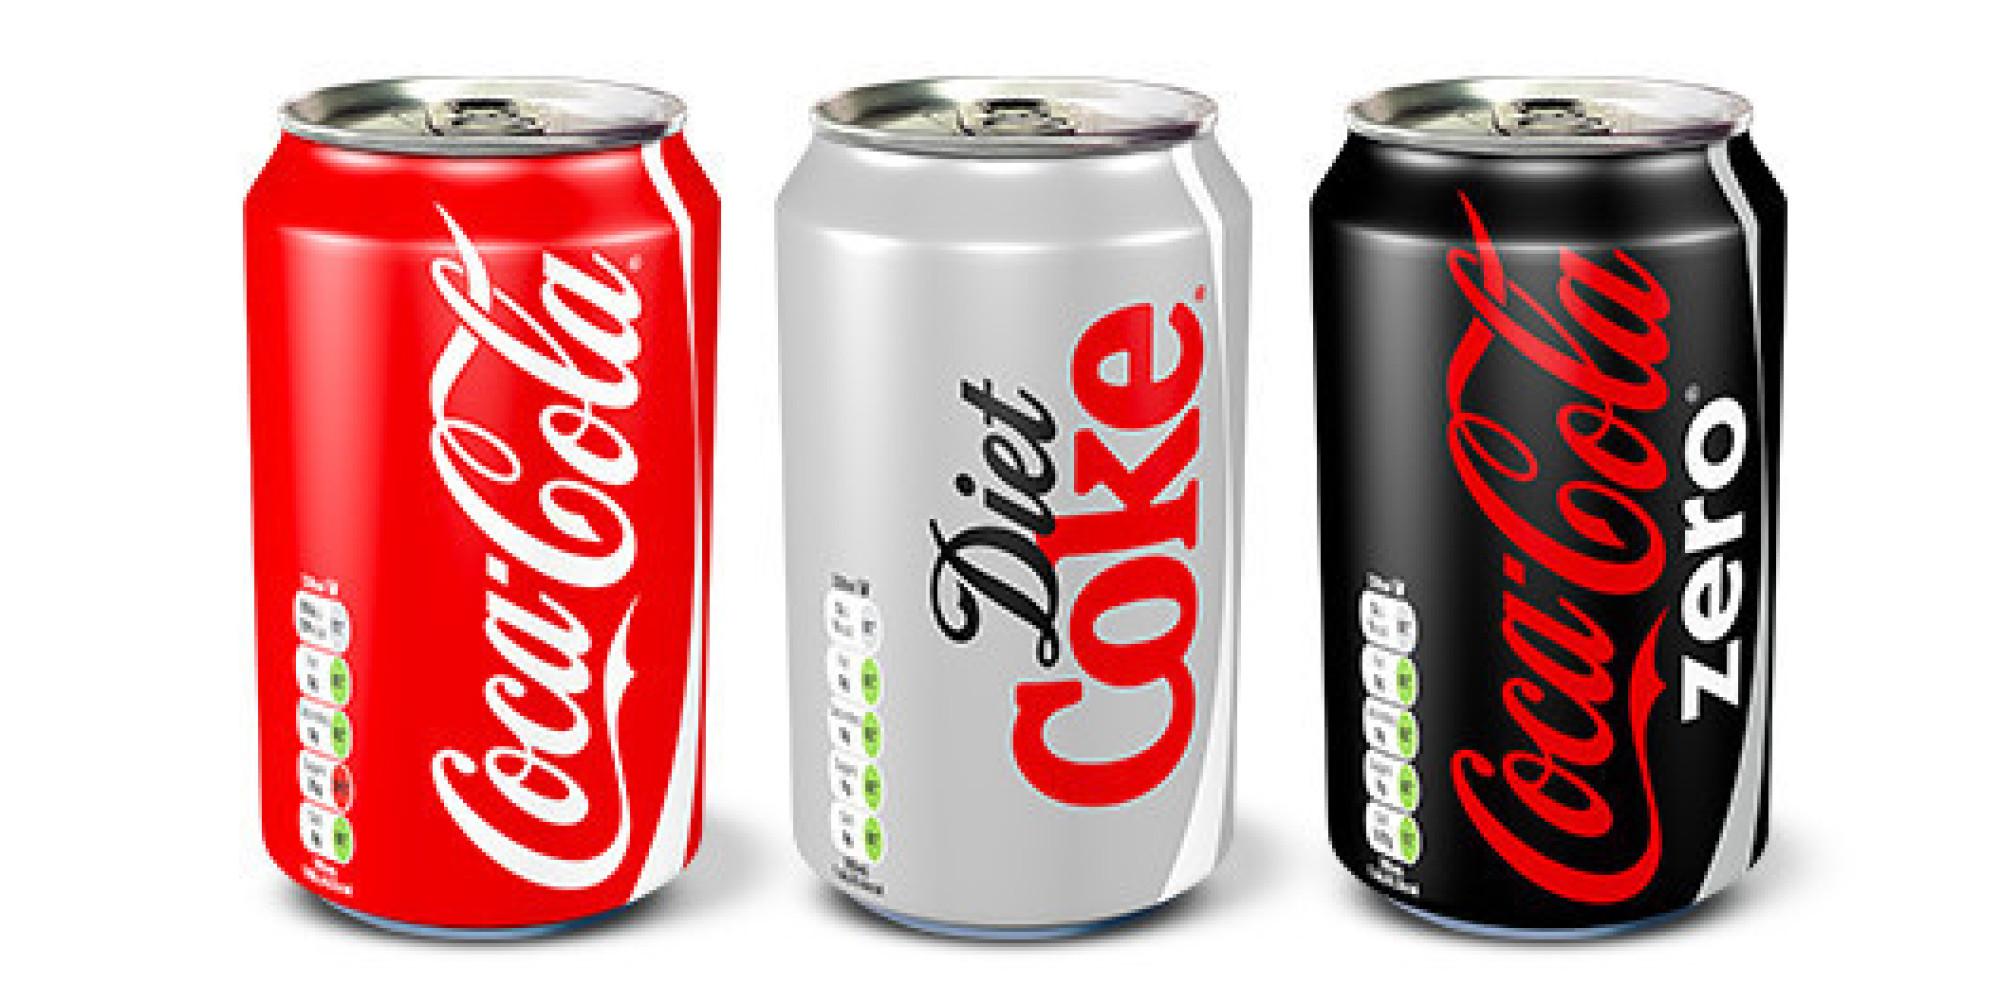coke: (246, 68, 740, 941), (1309, 77, 1793, 946), (781, 68, 1253, 946)
